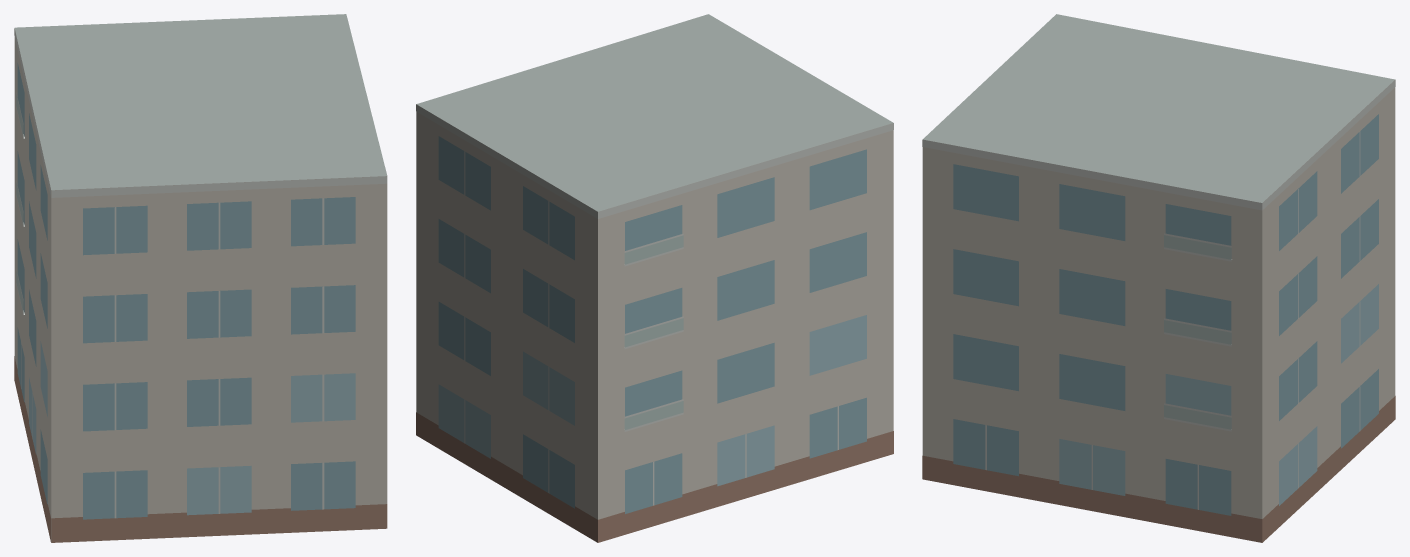
File: survey-upis-32707412.glb
3 views of the same model, side by side, from view 1: azimuth 30°, elevation 25°; view 2: azimuth 150°, elevation 25°; view 3: azimuth 270°, elevation 25° (orthographic). The views are drawn at different scales.
Visible parts, largest first — view 1: survey-upis-32707412.tmp; view 2: survey-upis-32707412.tmp; view 3: survey-upis-32707412.tmp.
Part boxes in pixels (x1,y1,x2,y2): survey-upis-32707412.tmp: (14,14,387,542); survey-upis-32707412.tmp: (416,14,893,542); survey-upis-32707412.tmp: (922,14,1395,542).
Bounding box in the file's own units: 13.35 × 11.18 × 14.11.
